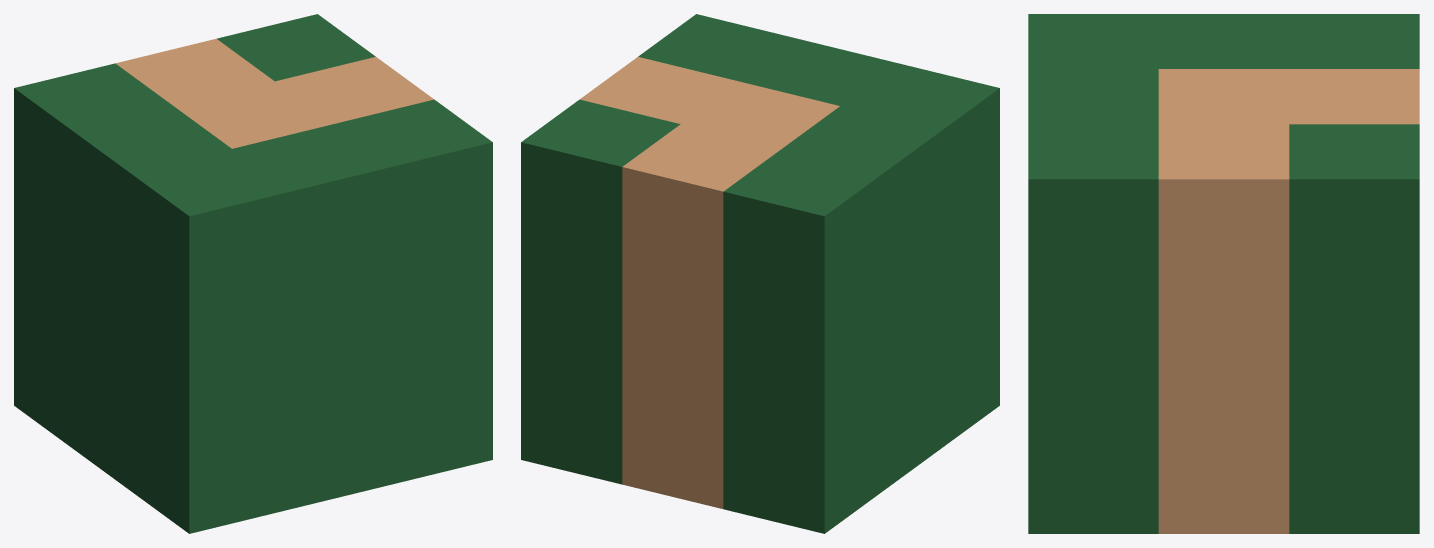
File: TurnPathForest(MODEL).fbx
The picture shows the model from 3 angles, left to right: view 1: azimuth 30°, elevation 25°; view 2: azimuth 150°, elevation 25°; view 3: azimuth 270°, elevation 25°; orthographic projection. The views are drawn at different scales.
Visible parts, largest first — view 1: PPFF; view 2: PPFF; view 3: PPFF.
Boxes of the visible parts, bbox=[...] form: PPFF: bbox=[14, 14, 492, 533]; PPFF: bbox=[521, 14, 999, 533]; PPFF: bbox=[1028, 14, 1419, 533].
Size of the model in its own units: 200 by 200 by 200.
